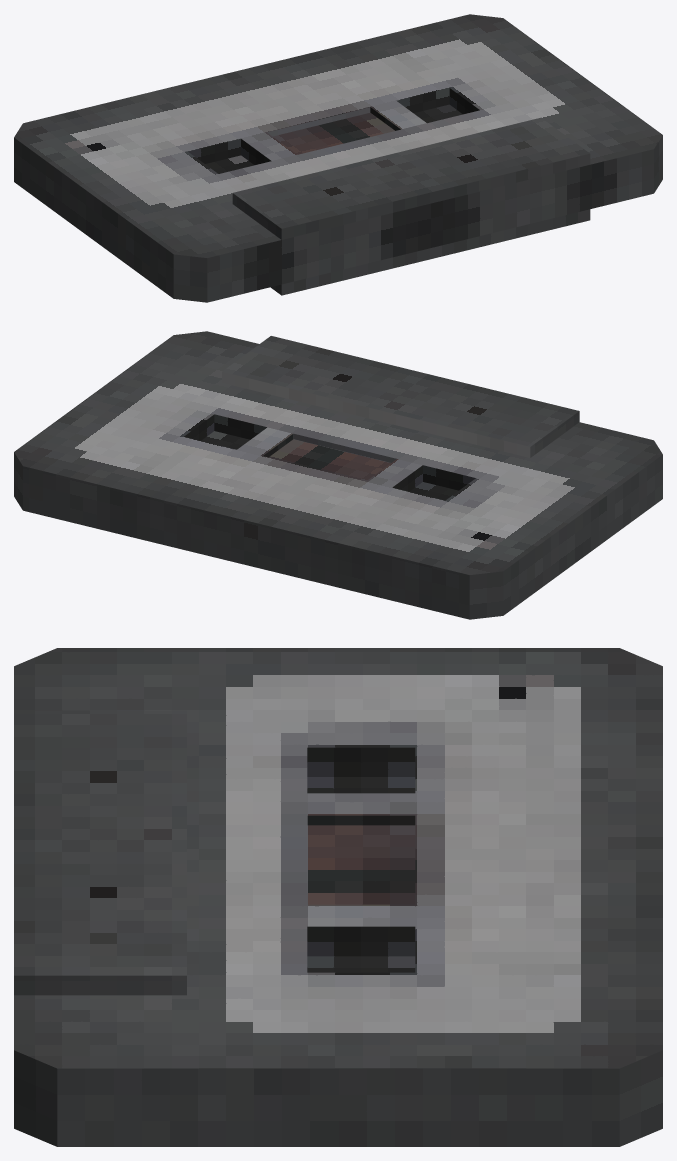
File: cassette_tape_mp_2.obj
The picture shows the model from 3 angles, top to bottom: view 1: azimuth 30°, elevation 25°; view 2: azimuth 150°, elevation 25°; view 3: azimuth 270°, elevation 25°; orthographic projection. The views are drawn at different scales.
Parts seen in each view (by area): view 1: cassette_tape_mp_2; view 2: cassette_tape_mp_2; view 3: cassette_tape_mp_2.
Boxes of the visible parts, bbox=[...] form: cassette_tape_mp_2: bbox=[14, 14, 662, 302]; cassette_tape_mp_2: bbox=[14, 331, 662, 619]; cassette_tape_mp_2: bbox=[14, 648, 662, 1146].
Bounding box in the file's own units: 5.3 × 0.6912 × 3.46.
Materials: 1 (1 with a texture image).
